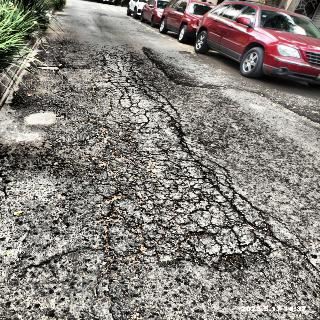alligator-crack: (71, 33, 260, 258)
